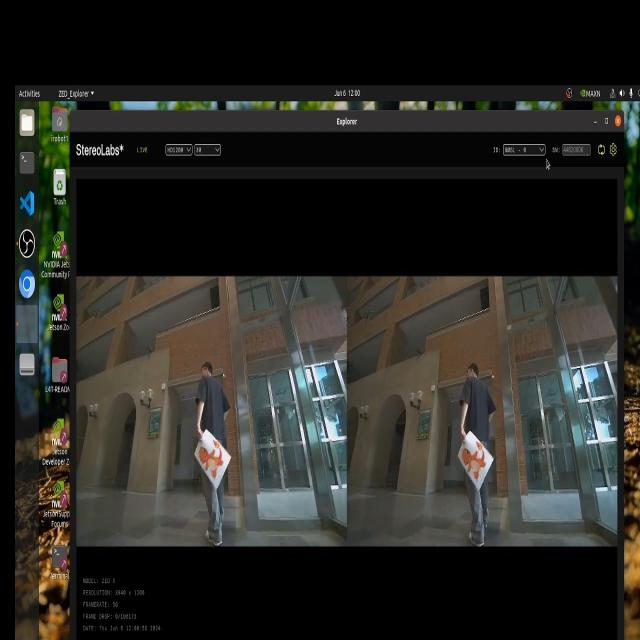red: (201, 436, 235, 484), (454, 440, 486, 484)
